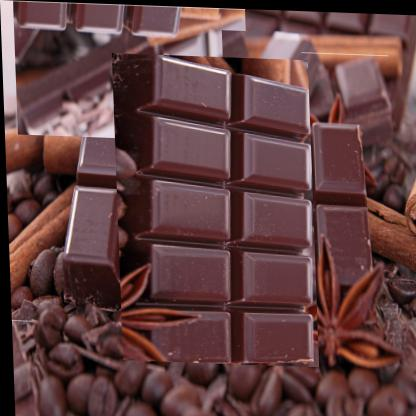chocolate: (83, 79, 344, 339), (12, 0, 250, 142), (237, 6, 415, 129), (222, 28, 322, 131), (301, 50, 392, 145), (9, 320, 34, 416)
